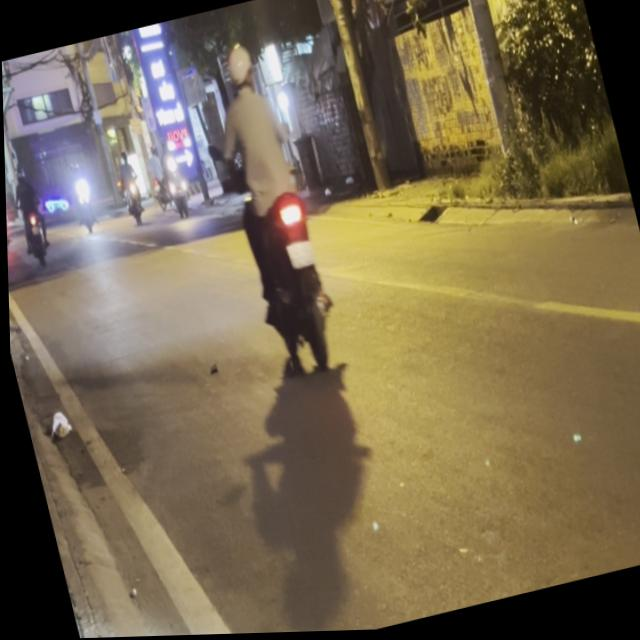helmet: (222, 41, 260, 95)
licenseplate: (195, 33, 348, 382)
nohelmet: (284, 240, 315, 272)
